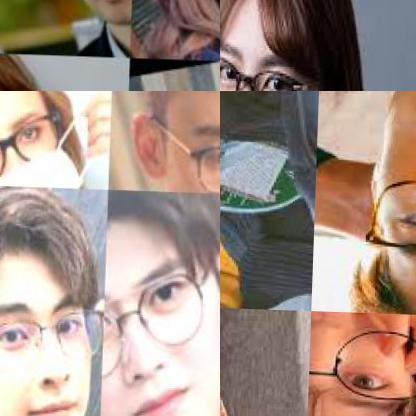Glasses: (101, 262, 219, 404), (0, 275, 104, 413), (137, 91, 219, 197), (0, 108, 74, 188), (220, 47, 314, 90)
glasses: (308, 323, 415, 408), (347, 161, 415, 258)
